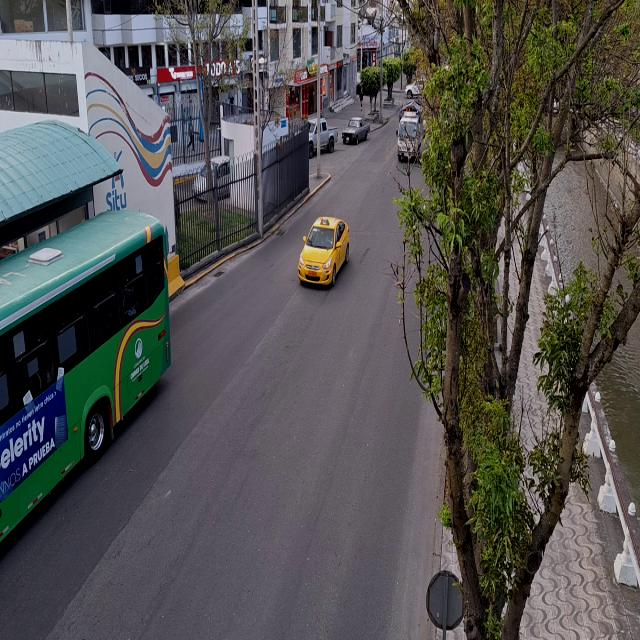BUS: (1, 221, 162, 551)
CMT: (342, 117, 370, 146)
